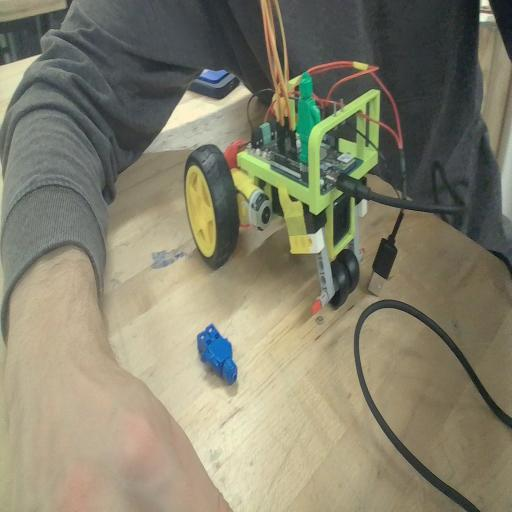blue LEGO minifig: (196, 319, 239, 389)
green LEGO minifig: (293, 71, 323, 167)
